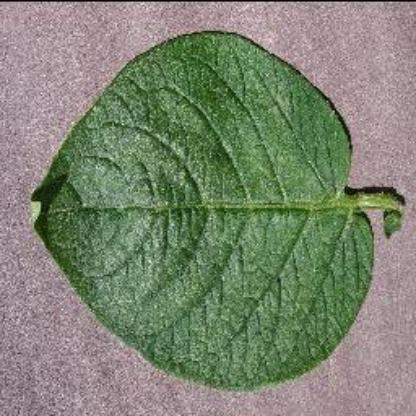Healthy-plant: (37, 23, 403, 394)
